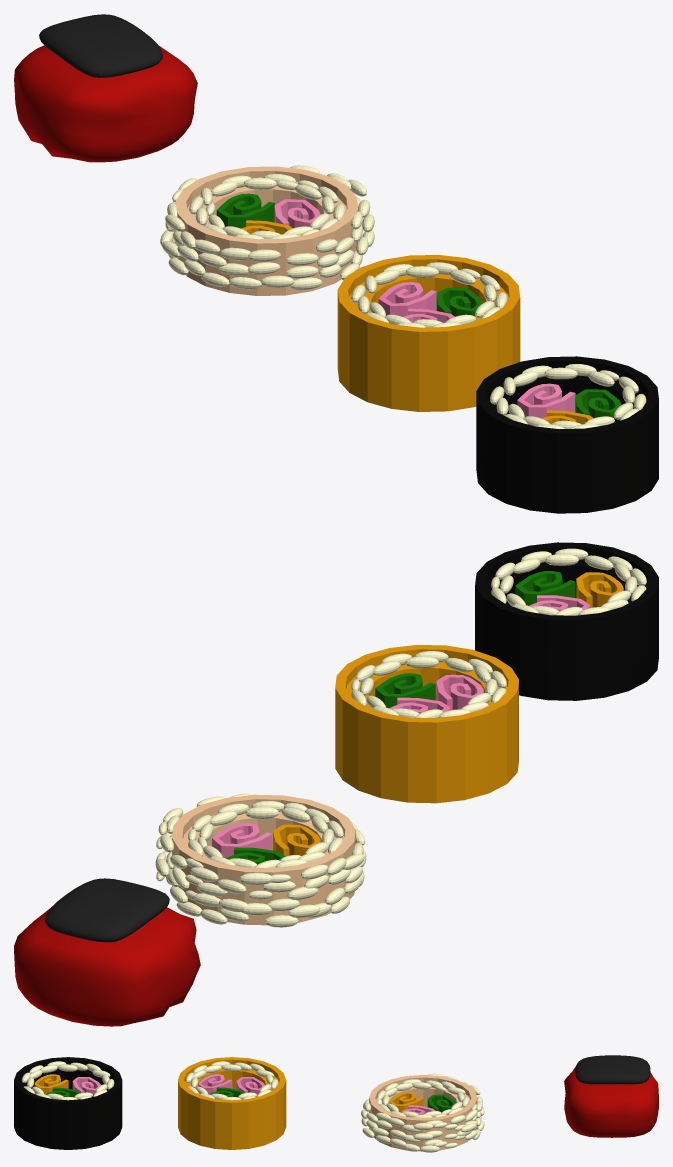
The model's file is Smaller sushi.fbx.
The picture shows the model from 3 angles, top to bottom: view 1: azimuth 30°, elevation 25°; view 2: azimuth 150°, elevation 25°; view 3: azimuth 270°, elevation 25°; orthographic projection. The views are drawn at different scales.
Parts seen in each view (by area): view 1: Circle.001, Circle.005, Cube.167, Circle.006, Cube.082, sushi rice 3, sushi rice 4, Inner sushi 2, Cube.009, Cube.049, Vert.003, Vert.001 (+11 smaller); view 2: Circle.005, Circle.001, Cube.167, Circle.006, Cube.082, sushi rice 1, sushi rice 5, sushi rice 4, Cube.006, Cube.039, Inner sushi 2, inner sushi 3 (+12 smaller); view 3: Circle.005, Circle.001, Cube.167, Circle.006, Cube.082, sushi rice 2, sushi rice 2.001, Inner sushi 1, sushi rice 1, Cube.009, Cube.049, Cube.039 (+15 smaller).
Part boxes in pixels (left/top/right/bottom): Circle.001: left=476, top=356, right=658, bottom=513; Circle.005: left=337, top=255, right=520, bottom=411; Cube.167: left=14, top=45, right=197, bottom=162; Circle.006: left=175, top=166, right=358, bottom=295; Cube.082: left=39, top=14, right=162, bottom=77; sushi rice 3: left=247, top=237, right=359, bottom=289; sushi rice 4: left=162, top=214, right=261, bottom=289; Inner sushi 2: left=211, top=174, right=345, bottom=220; Cube.009: left=490, top=365, right=577, bottom=418; Cube.049: left=351, top=264, right=438, bottom=317; Vert.003: left=378, top=282, right=436, bottom=316; Vert.001: left=517, top=383, right=575, bottom=418; Circle.005: left=335, top=645, right=518, bottom=803; Circle.001: left=475, top=542, right=658, bottom=700; Cube.167: left=14, top=907, right=200, bottom=1026; Circle.006: left=172, top=794, right=355, bottom=925; Cube.082: left=44, top=878, right=169, bottom=942; sushi rice 1: left=167, top=855, right=248, bottom=924; sushi rice 5: left=239, top=864, right=331, bottom=927; sushi rice 4: left=325, top=828, right=366, bottom=913; Cube.006: left=545, top=548, right=646, bottom=601; Cube.039: left=405, top=651, right=506, bottom=703; Inner sushi 2: left=188, top=803, right=256, bottom=867; inner sushi 3: left=245, top=801, right=343, bottom=837; Circle.005: left=178, top=1057, right=286, bottom=1149; Circle.001: left=14, top=1057, right=122, bottom=1149; Cube.167: left=564, top=1066, right=658, bottom=1137; Circle.006: left=369, top=1075, right=477, bottom=1151; Cube.082: left=575, top=1055, right=650, bottom=1084; sushi rice 2: left=413, top=1115, right=476, bottom=1152; sushi rice 2.001: left=372, top=1112, right=419, bottom=1151; Inner sushi 1: left=395, top=1079, right=465, bottom=1094; sushi rice 1: left=456, top=1096, right=484, bottom=1139; Cube.009: left=58, top=1062, right=114, bottom=1092; Cube.049: left=222, top=1062, right=278, bottom=1092; Cube.039: left=185, top=1061, right=229, bottom=1093.
Bounding box in the file's own units: 68.7 × 38.42 × 349.
Materials: 1 (1 with a texture image).
